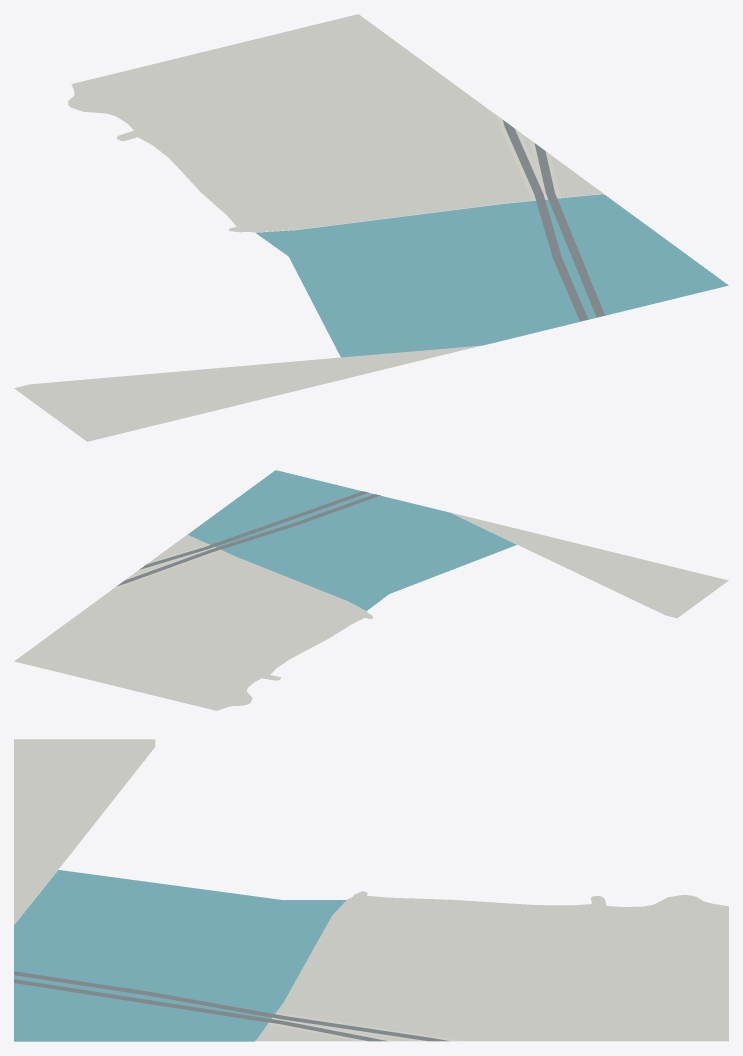
3 renders of one model, top to bottom at view 1: azimuth 30°, elevation 25°; view 2: azimuth 150°, elevation 25°; view 3: azimuth 270°, elevation 25°, orthographic. The views are drawn at different scales.
Visible parts, largest first — view 1: city; view 2: city; view 3: city.
Boxes of the visible parts, x1=… form: city: x1=14, y1=14, x2=728, y2=441; city: x1=14, y1=470, x2=728, y2=710; city: x1=14, y1=739, x2=728, y2=1041.
Size of the model in its own units: 500 by 0.4 by 500.
